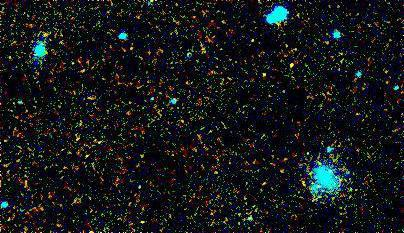star: (276, 52, 306, 82)
